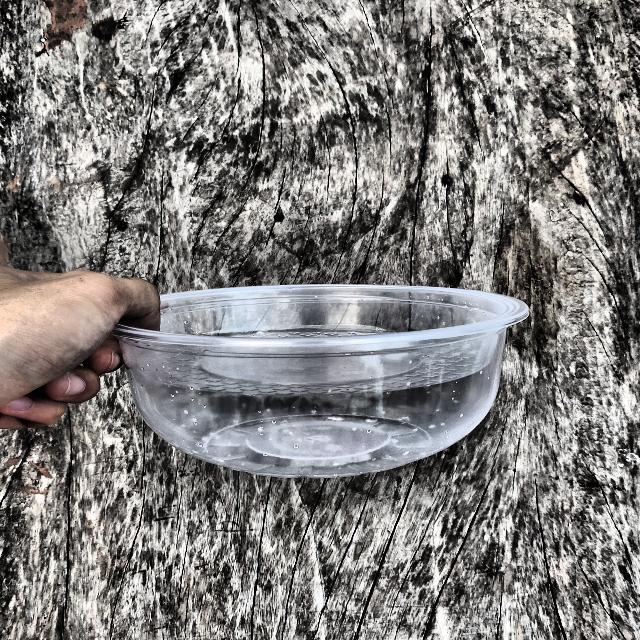plastic container: (71, 264, 530, 493)
